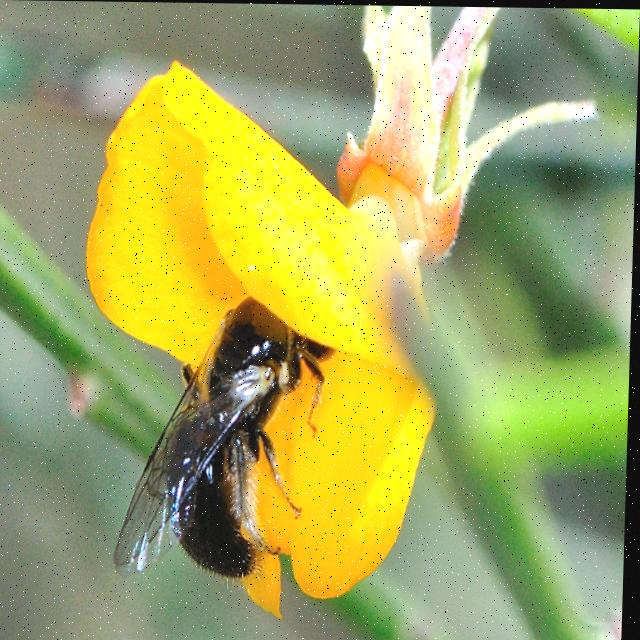Braunsapis: (97, 232, 386, 618)
